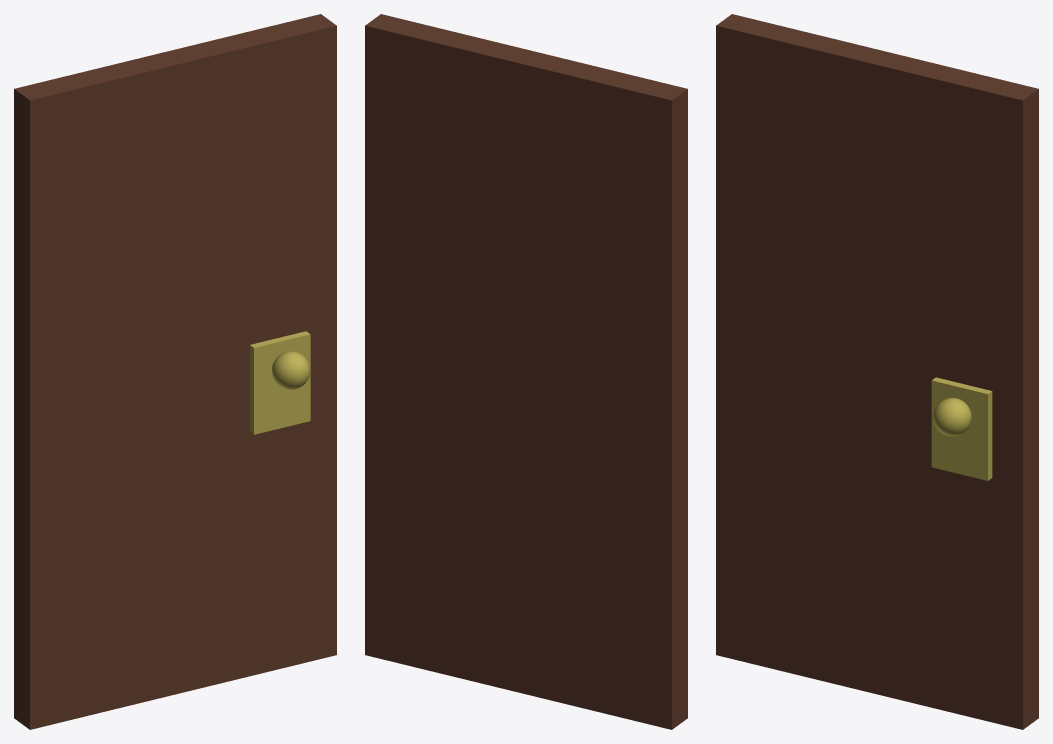
File: Bossdoor.fbx
The picture shows the model from 3 angles, left to right: view 1: azimuth 30°, elevation 25°; view 2: azimuth 150°, elevation 25°; view 3: azimuth 330°, elevation 25°; orthographic projection.
Parts seen in each view (by area): view 1: pCube3; view 2: pCube3; view 3: pCube3.
Boxes of the visible parts, x1,y1,x2,y2 form: pCube3: [14, 14, 336, 729]; pCube3: [365, 14, 687, 729]; pCube3: [716, 14, 1038, 729].
Size of the model in its own units: 3.7 by 7.25 by 0.791.
